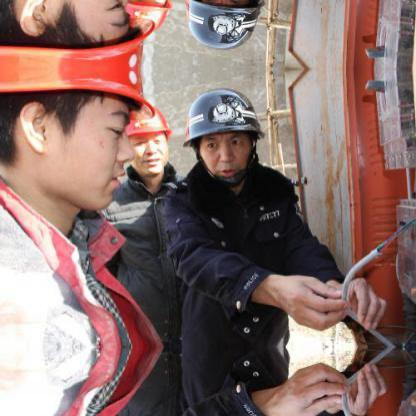helmet: (1, 69, 170, 212), (0, 0, 170, 68), (178, 84, 267, 186), (177, 0, 267, 54), (120, 104, 173, 172), (119, 0, 173, 33)
